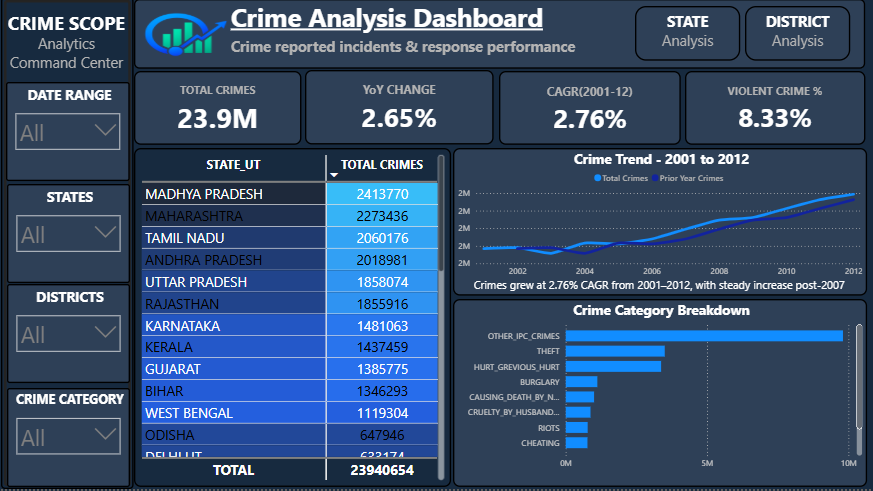

The dashboard page shown, as its layout file describes it:
{"tool":"powerbi","page":{"name":"Crime Analysis","canvas":[1280,720],"ordinal":0},"visuals":[{"type":"textbox","box":[197.6,2.9,1069.8,102.4],"z":0},{"type":"cardVisual","fields":{"Data":["ALL Measures.Total CR"]},"box":[197,108,245,108],"z":1000},{"type":"shape","box":[2.9,0,194.4,720],"z":2000},{"type":"textbox","box":[2.9,7.2,191.5,110.9],"z":3000},{"type":"cardVisual","fields":{"Data":["ALL Measures.YoY % Change (Latest Year)"]},"box":[447.8,106.6,276.5,109.4],"z":4000},{"type":"cardVisual","fields":{"Data":["ALL Measures.CAGR 2001-2012"]},"box":[731.5,107.7,266.2,108.5],"z":5000},{"type":"cardVisual","fields":{"Data":["ALL Measures.Violent Crime %"]},"box":[1003.8,107.7,263.8,108.5],"z":6000},{"type":"slicer","title":"DATE RANGE","fields":{"Values":["Dim_Year.Year"]},"box":[10.1,123.8,181.4,145.4],"z":7000},{"type":"slicer","title":"STATES","fields":{"Values":["Dim_State.STATE_UT"]},"box":[11.5,273.6,180,145.4],"z":8000},{"type":"slicer","title":"DISTRICTS","fields":{"Values":["Crimes_wide.DISTRICT"]},"box":[11.5,420.5,180,145.4],"z":9000},{"type":"slicer","title":"CRIME CATEGORY","fields":{"Values":["Fact_Crimes.CrimeCategory"]},"box":[11.5,571.7,180,145.4],"z":10000},{"type":"tableEx","fields":{"Values":["Fact_Crimes.STATE_UT","ALL Measures.Total CR"]},"box":[197.6,221,463.9,496.1],"z":11000},{"type":"lineChart","title":"Crime Trend - 2001 to 2012","fields":{"Category":["Dim_Year.Year"],"Y":["ALL Measures.Total CR","ALL Measures.Prior Year Crimes"]},"box":[663.8,220.3,606.2,216],"z":12000},{"type":"textbox","box":[931.2,13.1,153.8,80.3],"z":13000},{"type":"textbox","box":[1091.5,13.1,153.8,80],"z":14000},{"type":"shape","box":[1091.5,13.1,153.8,80],"z":15000},{"type":"shape","box":[931.2,14.4,154.1,80.6],"z":16000},{"type":"clusteredBarChart","title":"Crime Category Breakdown","fields":{"Category":["Fact_Crimes.CrimeCategory"],"Y":["ALL Measures.Total CR"]},"box":[664.4,442,605.9,275.1],"z":17000},{"type":"textbox","box":[673.9,404.6,583.2,37.4],"z":18000},{"type":"image","box":[191.7,2.9,161,105.4],"z":19000}]}

Visuals, with their boxes in screenshot pixels (x1, y1, x2, y2), scaled from the page's 1280x720 canvas onto the 873x491 screenshot:
textbox: 135/2/864/72
cardVisual - ALL Measures.Total CR: 134/74/301/147
shape: 2/0/135/490
textbox: 2/5/133/81
cardVisual - ALL Measures.YoY % Change (Latest Year): 305/73/494/147
cardVisual - ALL Measures.CAGR 2001-2012: 499/73/680/147
cardVisual - ALL Measures.Violent Crime %: 685/73/865/147
"DATE RANGE" slicer: 7/84/131/184
"STATES" slicer: 8/187/131/286
"DISTRICTS" slicer: 8/287/131/386
"CRIME CATEGORY" slicer: 8/390/131/489
tableEx - Fact_Crimes.STATE_UT x ALL Measures.Total CR: 135/151/451/489
"Crime Trend - 2001 to 2012" lineChart: 453/150/866/298
textbox: 635/9/740/64
textbox: 744/9/849/63
shape: 744/9/849/63
shape: 635/10/740/65
"Crime Category Breakdown" clusteredBarChart: 453/301/866/489
textbox: 460/276/857/301
image: 131/2/241/74
